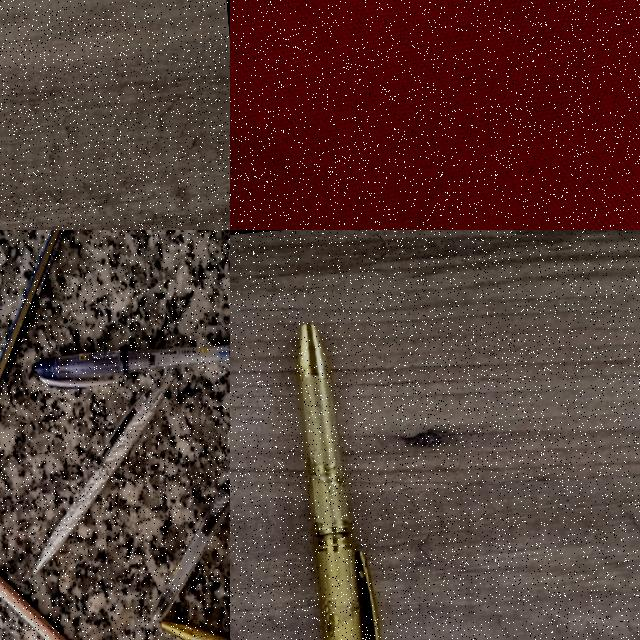pen: (135, 394, 230, 622), (27, 335, 230, 387)
pencil: (0, 502, 154, 640), (0, 230, 64, 386)
signature pen: (35, 371, 172, 573), (298, 324, 379, 639)
